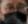with_mask: (1, 1, 28, 24)
